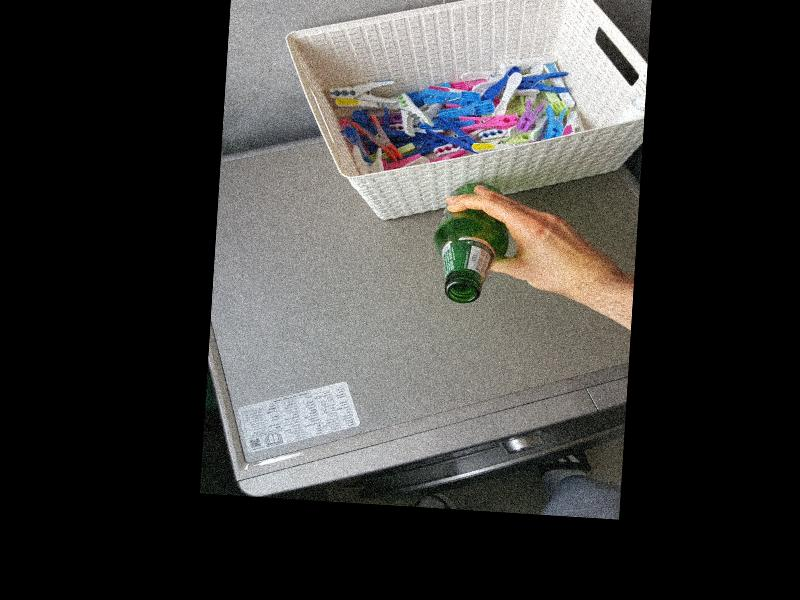Beer: (430, 180, 511, 305)
